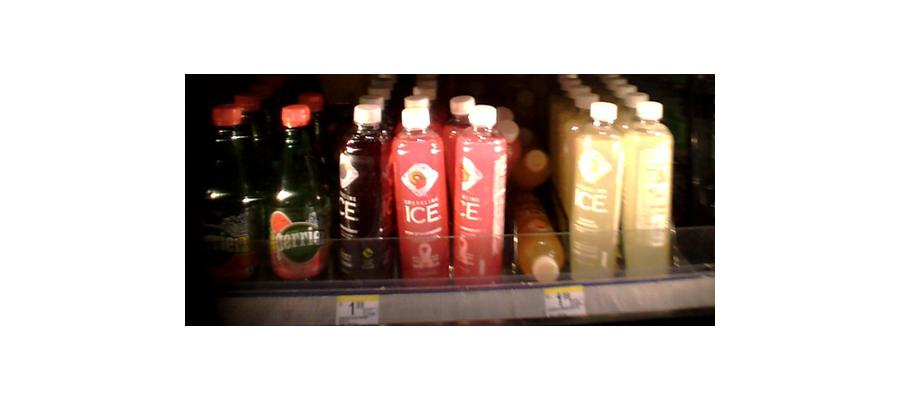bottle: (268, 104, 327, 289), (568, 98, 627, 276), (450, 99, 507, 282), (392, 101, 449, 283), (335, 103, 390, 283), (626, 95, 672, 276), (215, 104, 257, 282), (512, 178, 565, 279)
